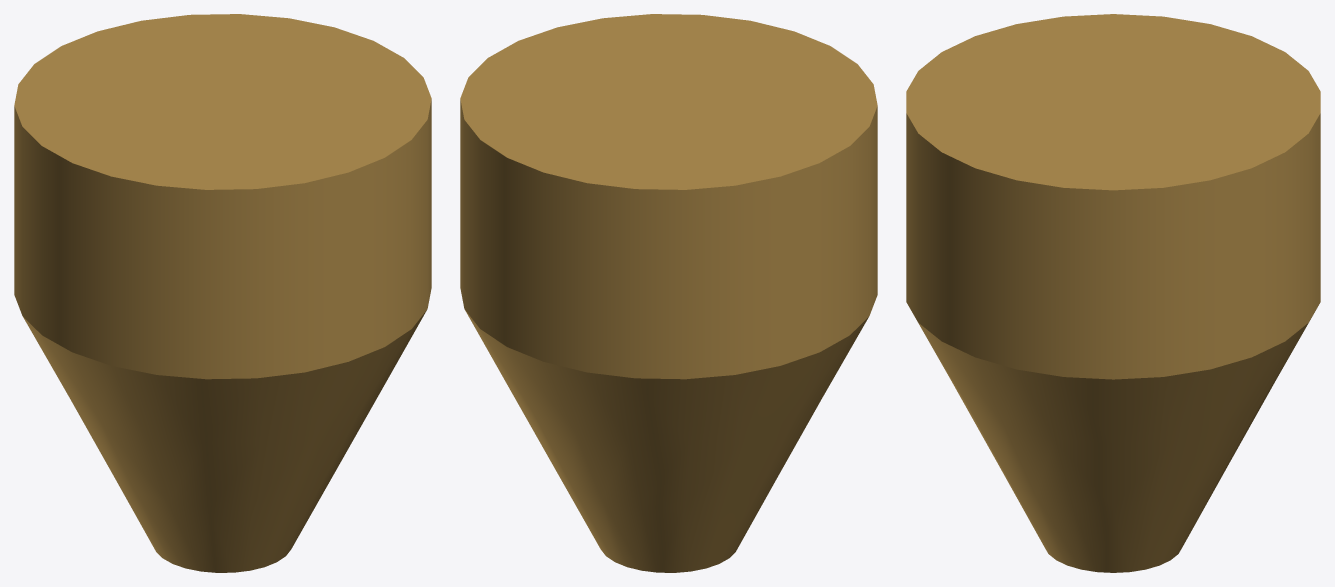
File: printing-nozzle.glb
The picture shows the model from 3 angles, left to right: view 1: azimuth 30°, elevation 25°; view 2: azimuth 150°, elevation 25°; view 3: azimuth 270°, elevation 25°; orthographic projection.
Bounding box in the file's own units: 0.006 × 0.007 × 0.00596.
